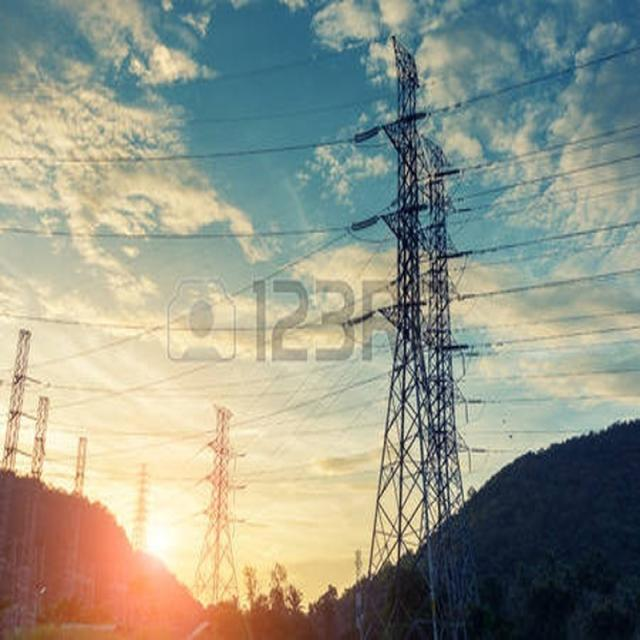non-critical vegetation: (359, 26, 478, 624), (202, 393, 244, 594)
